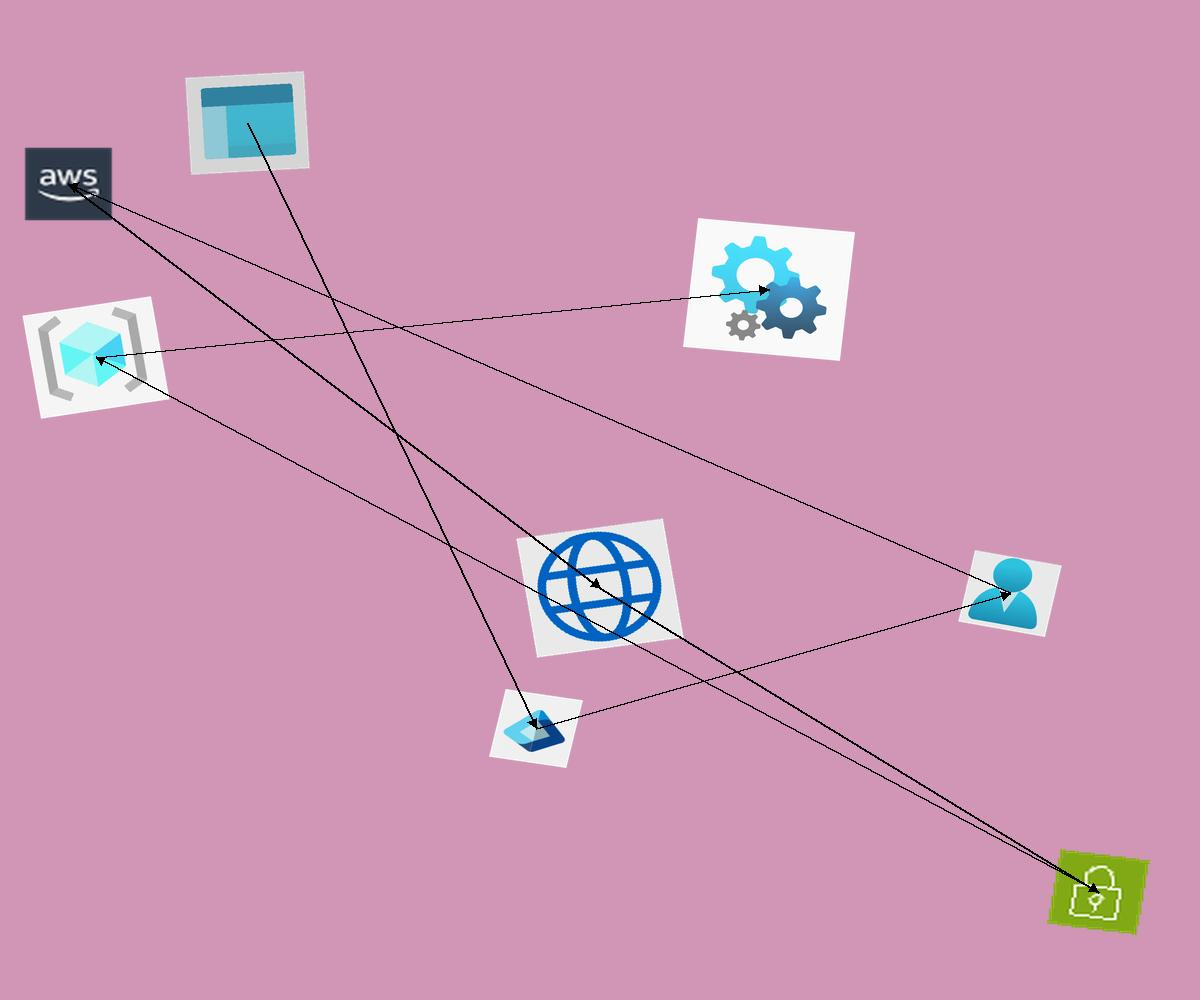AWS-Cloud-logo: (23, 146, 114, 222)
AWS-Public-subnet: (1047, 849, 1150, 935)
Azure_api: (683, 218, 855, 361)
Azure_http: (516, 518, 684, 658)
Azure_management-portal: (185, 71, 310, 175)
Azure_microsoft_entra: (489, 689, 583, 768)
Azure_resource_group: (22, 296, 170, 419)
Azure_users: (958, 550, 1062, 637)
